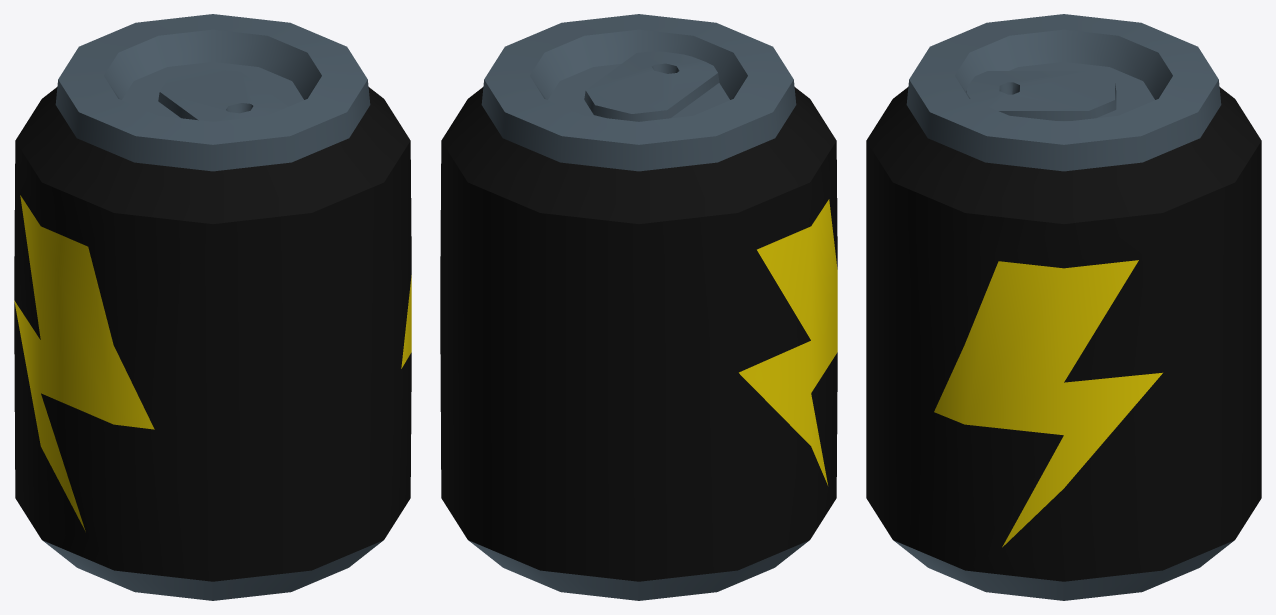
The model's file is EnergyCan.fbx.
3 renders of one model, left to right at view 1: azimuth 30°, elevation 25°; view 2: azimuth 150°, elevation 25°; view 3: azimuth 270°, elevation 25°, orthographic.
Parts seen in each view (by area): view 1: Energy_can; view 2: Energy_can; view 3: Energy_can.
Part boxes in pixels (<box>): Energy_can: <box>14,14,411,600</box>; Energy_can: <box>440,14,837,600</box>; Energy_can: <box>866,14,1261,600</box>.
Size of the model in its own units: 0.477 by 0.6075 by 0.4742.
